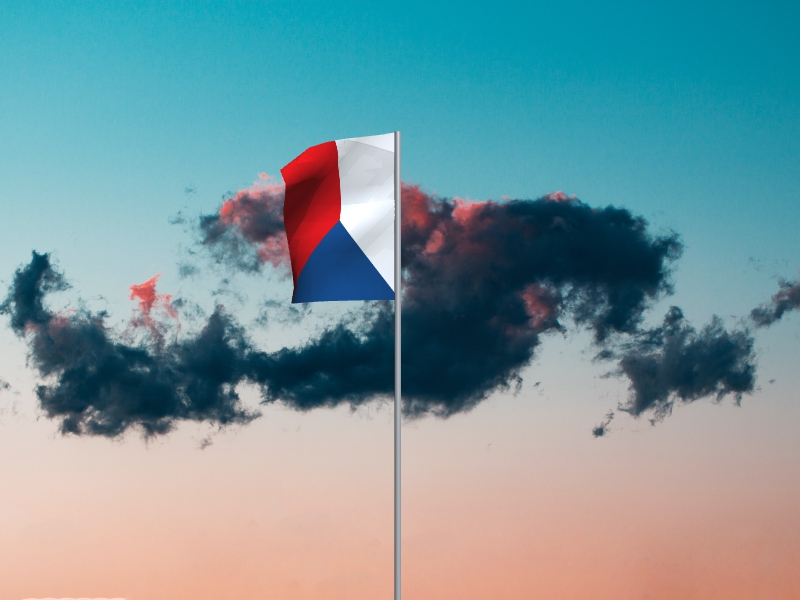cz: (279, 133, 395, 305)
